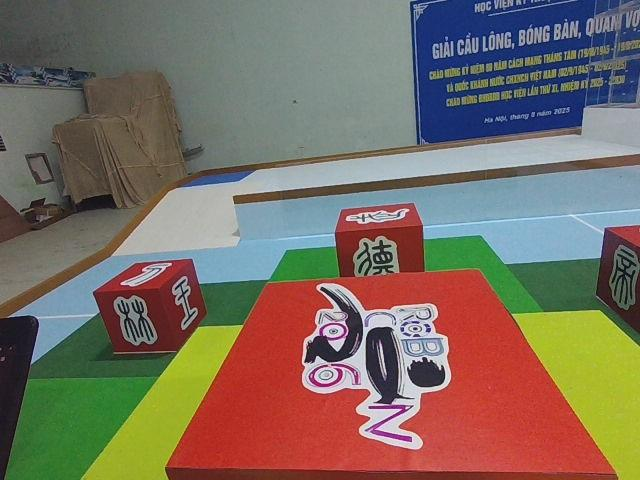R1: (163, 265, 619, 480)
R2 Fake: (91, 258, 208, 352), (334, 201, 426, 289), (594, 225, 640, 335)
